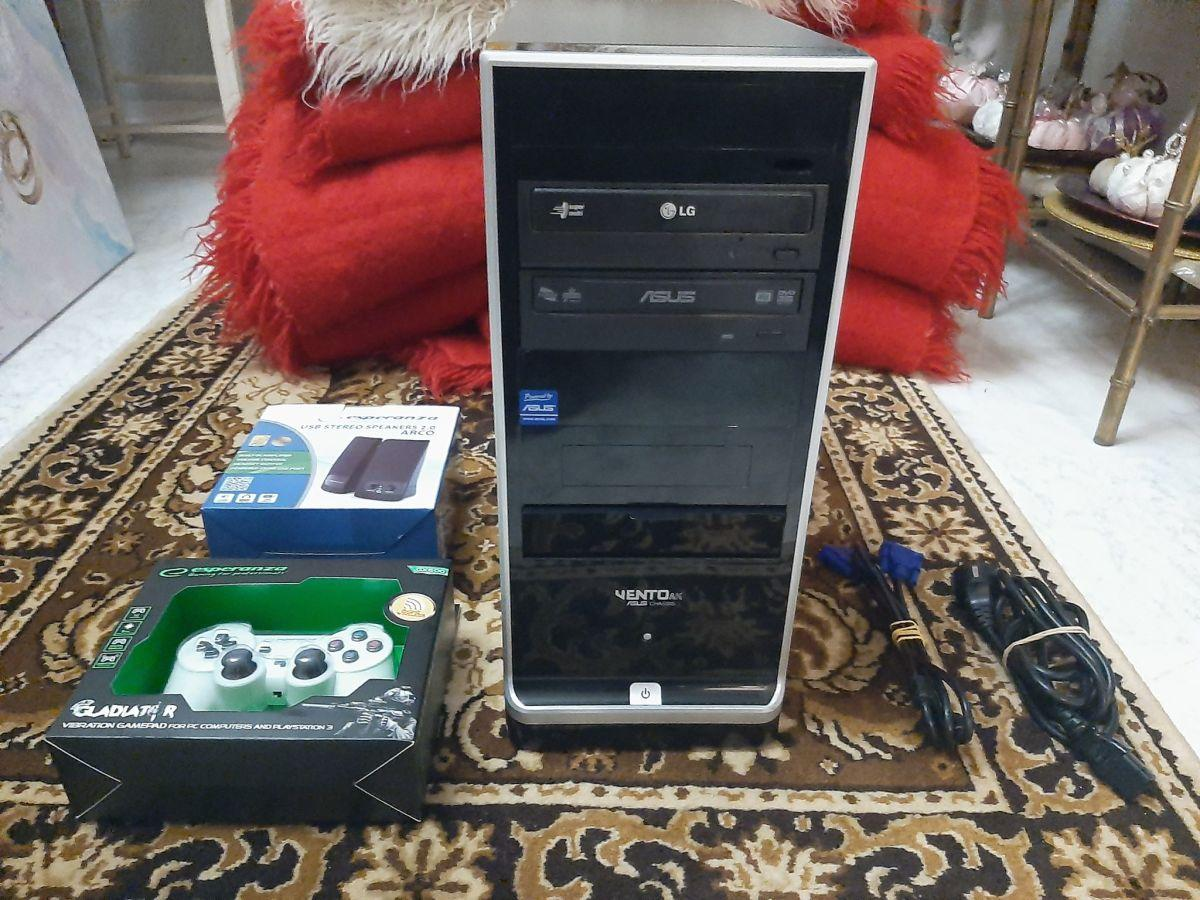DESKTOP PC: (478, 0, 872, 724)
